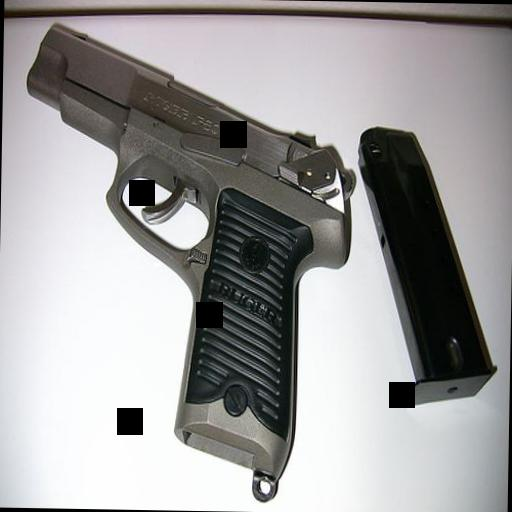Handgun: (6, 20, 356, 476)
